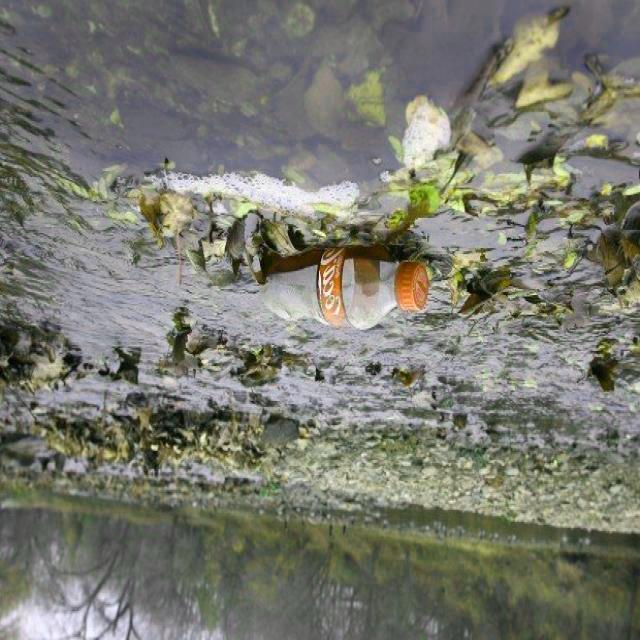Plastic: (243, 251, 438, 327)
